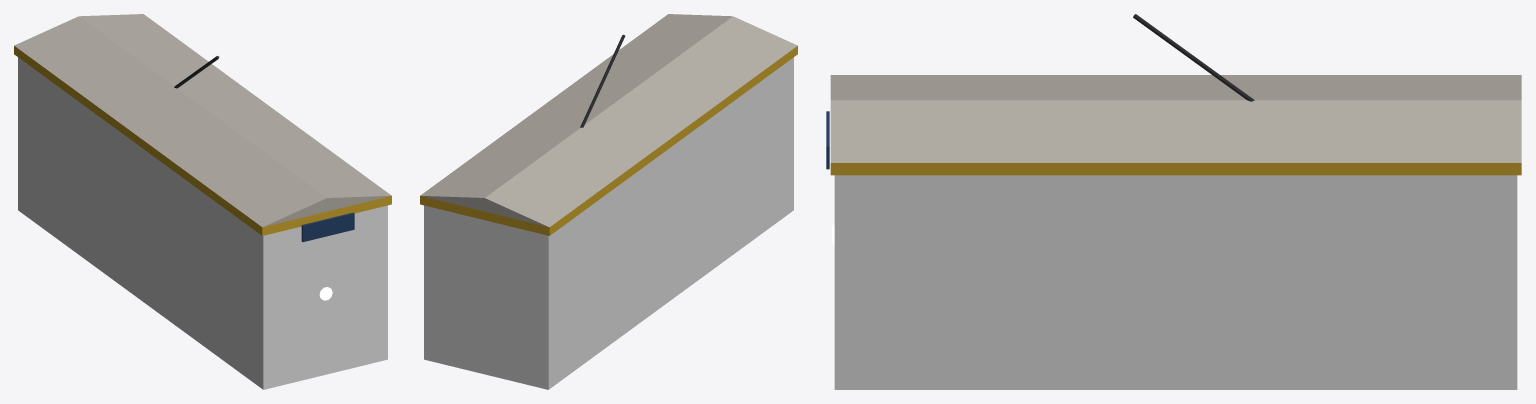
The model's file is tranvia_amarillo.glb.
3 renders of one model, left to right at view 1: azimuth 30°, elevation 25°; view 2: azimuth 150°, elevation 25°; view 3: azimuth 270°, elevation 25°, orthographic. The views are drawn at different scales.
Visible parts, largest first — view 1: COL_0, tranvia_amarillo_Malla; view 2: COL_0, tranvia_amarillo_Malla; view 3: COL_0, tranvia_amarillo_Malla.
Part boxes in pixels (x1,y1,x2,y2): COL_0: (18, 57, 387, 389); tranvia_amarillo_Malla: (14, 14, 391, 300); COL_0: (424, 57, 793, 389); tranvia_amarillo_Malla: (420, 14, 797, 235); COL_0: (834, 175, 1517, 389); tranvia_amarillo_Malla: (826, 14, 1521, 244).
Bounding box in the file's own units: 2.5 × 4.42 × 8.35.
